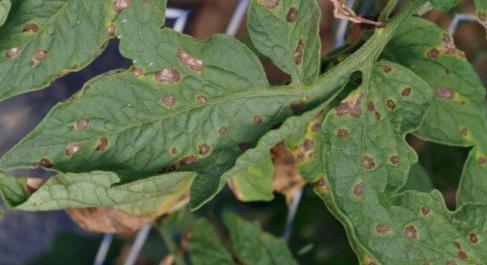Tomato Septoria leaf spot: (0, 0, 347, 265), (266, 43, 467, 234), (216, 0, 360, 104)
